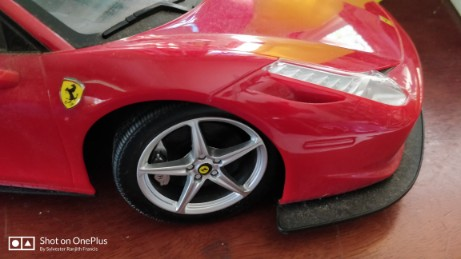unaligned_wheel: (109, 99, 282, 229)
